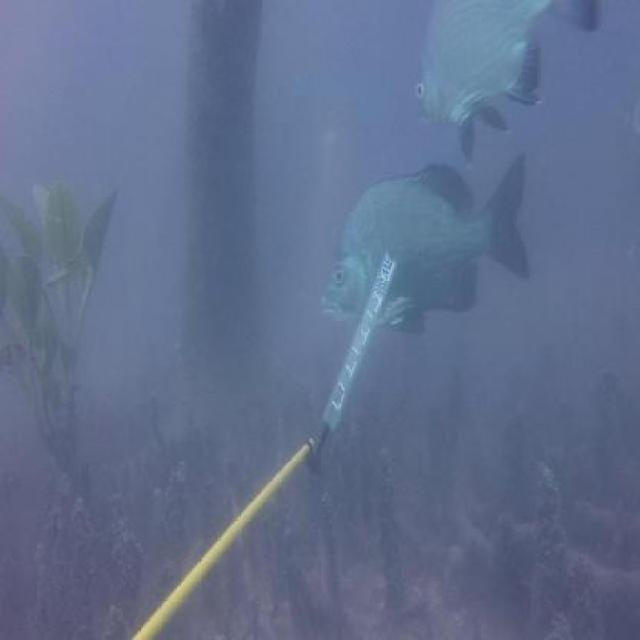acanthopagrus_palmaris: (316, 149, 536, 345), (414, 1, 601, 164)
